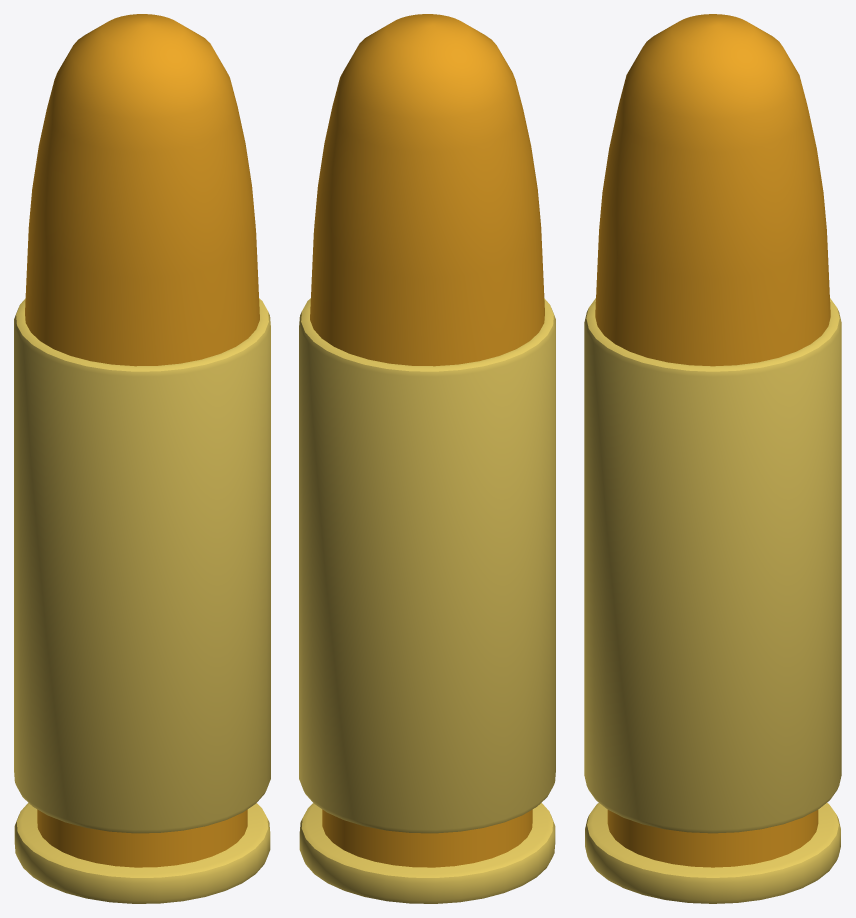
Rendered from Bullet_03a.fbx.
3 renders of one model, left to right at view 1: azimuth 30°, elevation 25°; view 2: azimuth 150°, elevation 25°; view 3: azimuth 270°, elevation 25°, orthographic.
Parts seen in each view (by area): view 1: Bullet_03a; view 2: Bullet_03a; view 3: Bullet_03a.
Boxes of the visible parts, x1=… form: Bullet_03a: x1=14, y1=14, x2=270, y2=903; Bullet_03a: x1=299, y1=14, x2=555, y2=903; Bullet_03a: x1=584, y1=14, x2=841, y2=903.
Bounding box in the file's own units: 3.76 × 13.43 × 3.76.
